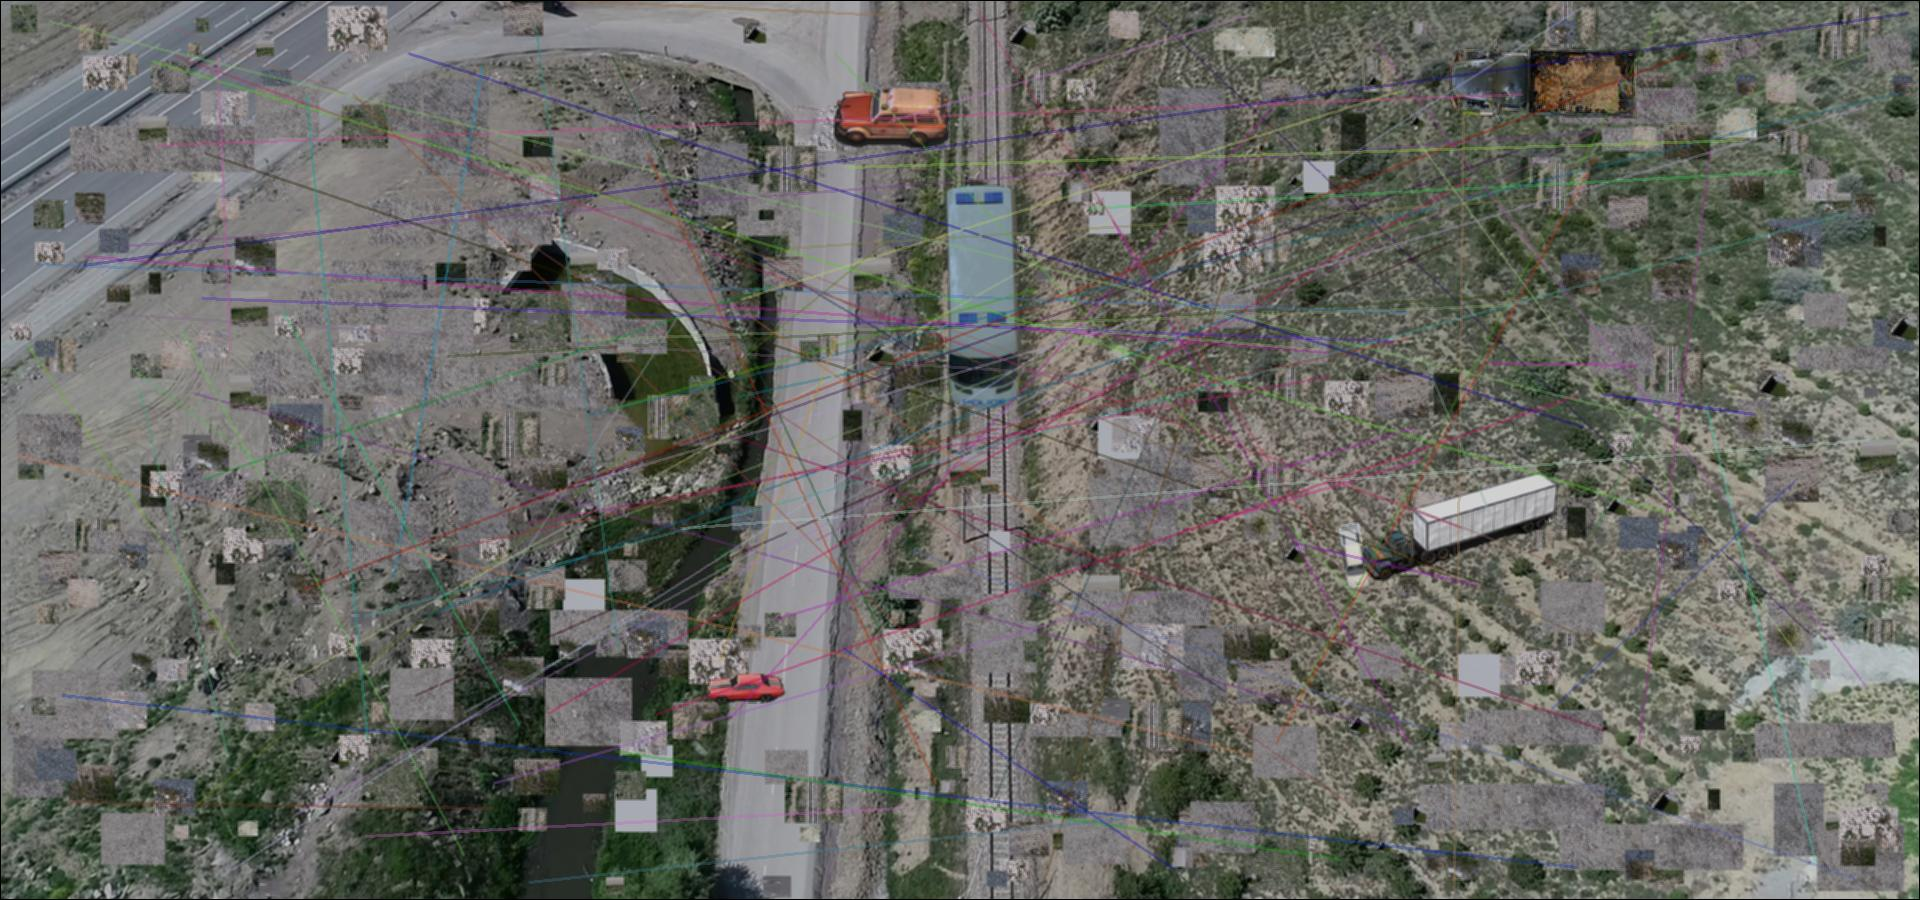arac: (1359, 469, 1567, 580), (936, 182, 1037, 410), (1446, 34, 1642, 130), (831, 88, 951, 148), (704, 672, 787, 705), (1335, 523, 1374, 591)
